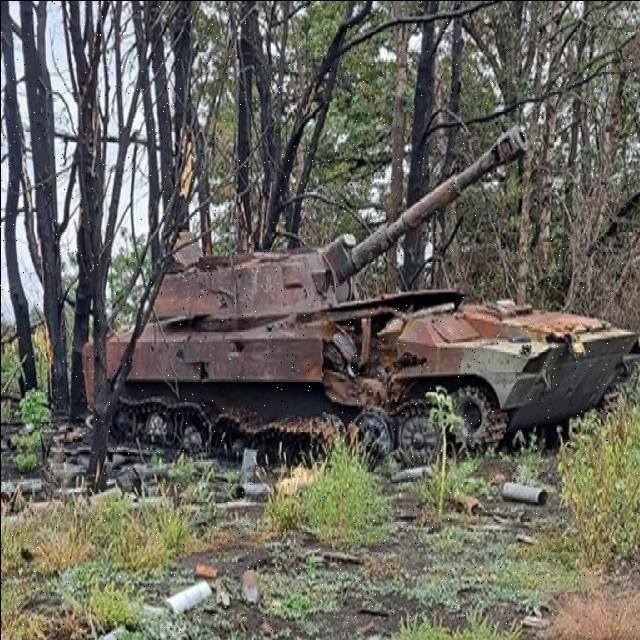ART: (81, 122, 639, 467)
